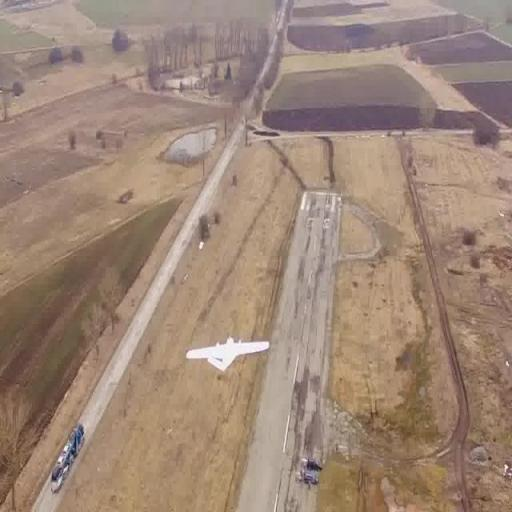uav: (186, 333, 272, 373)
